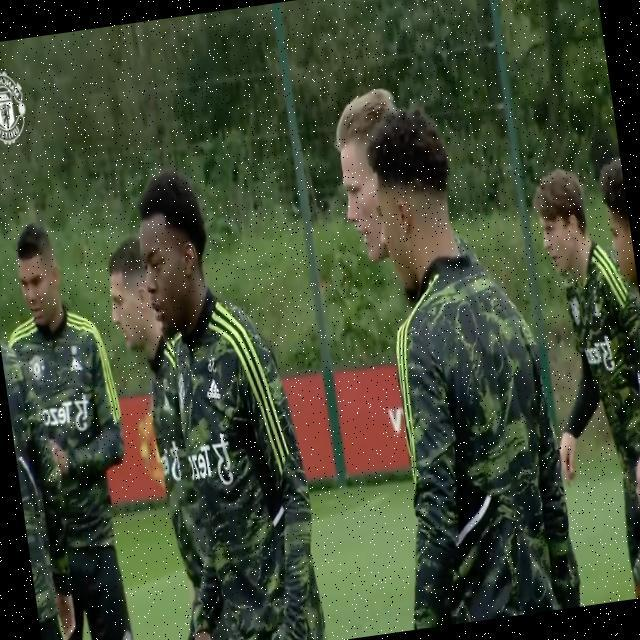Adidas: (204, 377, 221, 404), (68, 355, 84, 376)
